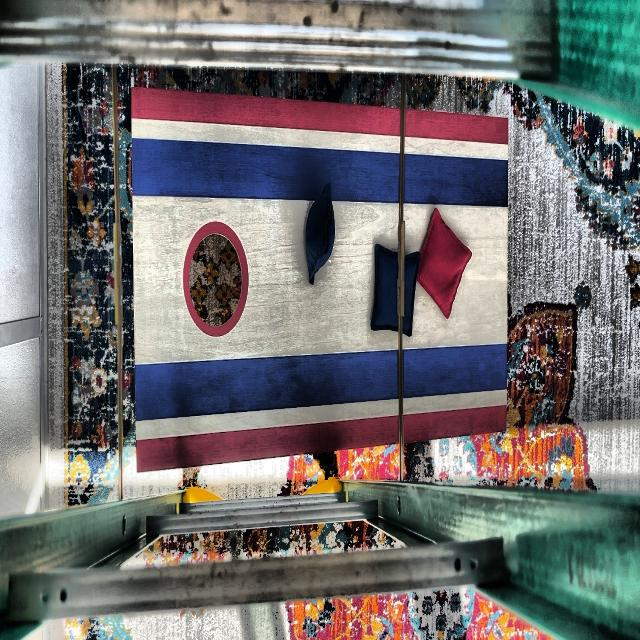blue-bean-bag: (371, 245, 419, 336), (306, 185, 336, 285)
board: (135, 120, 505, 429)
hole: (183, 220, 249, 338)
red-bean-bag: (416, 211, 472, 318)
